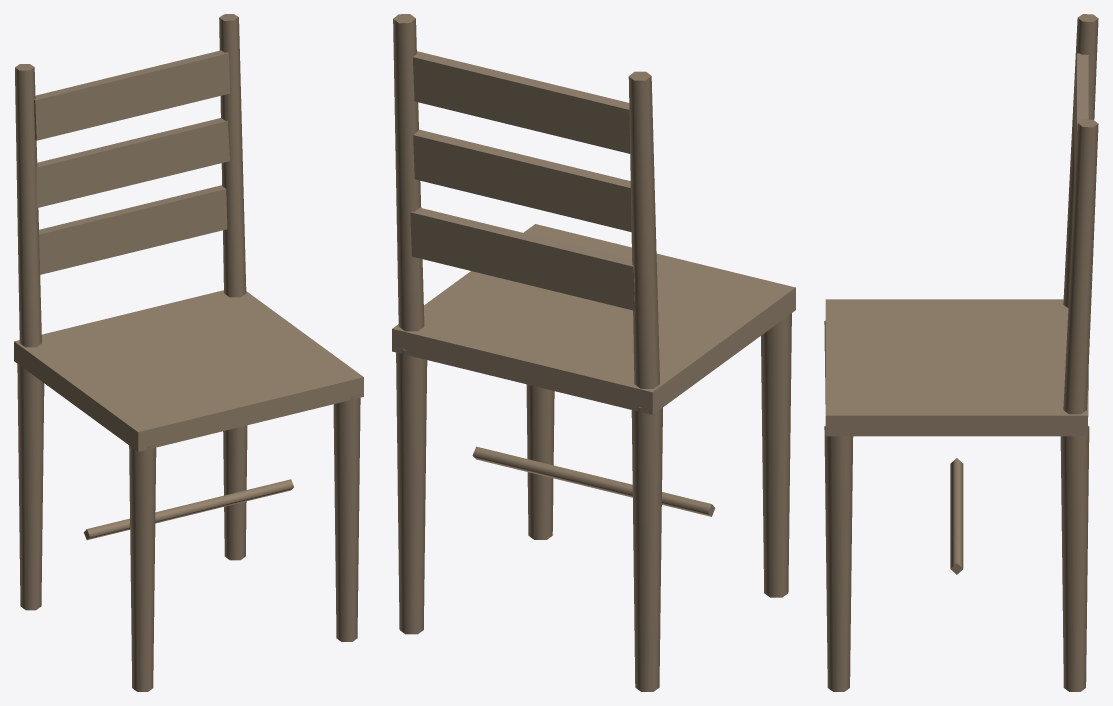
File: cabin_chair_a.glb
The picture shows the model from 3 angles, left to right: view 1: azimuth 30°, elevation 25°; view 2: azimuth 150°, elevation 25°; view 3: azimuth 270°, elevation 25°; orthographic projection. The views are drawn at different scales.
Visible parts, largest first — view 1: body; view 2: body; view 3: body.
Boxes of the visible parts, bbox=[...] form: body: bbox=[14, 14, 363, 691]; body: bbox=[392, 14, 795, 691]; body: bbox=[824, 14, 1098, 691].
Bounding box in the file's own units: 0.42 × 0.9507 × 0.418.
